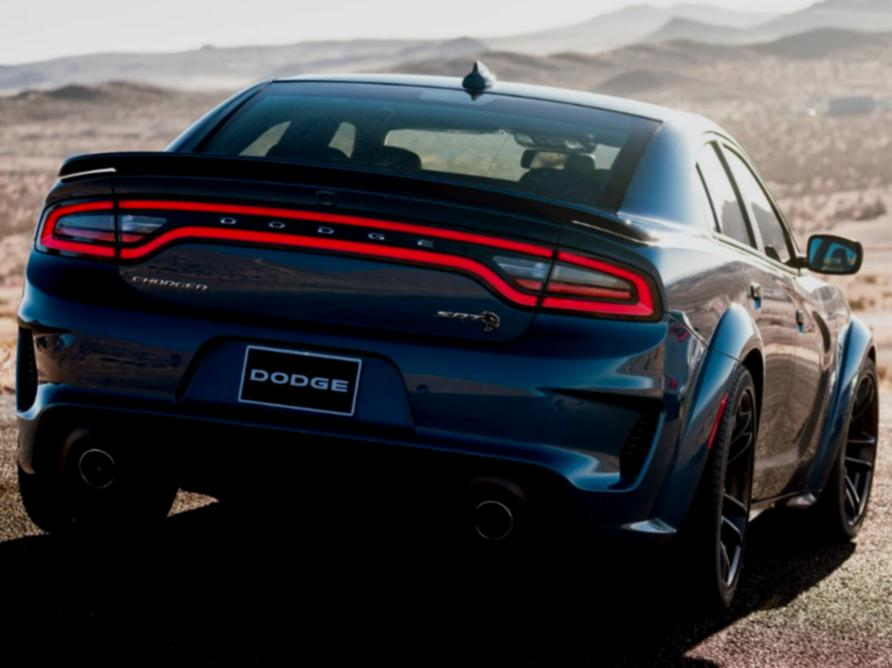dodge: (212, 208, 444, 268)
